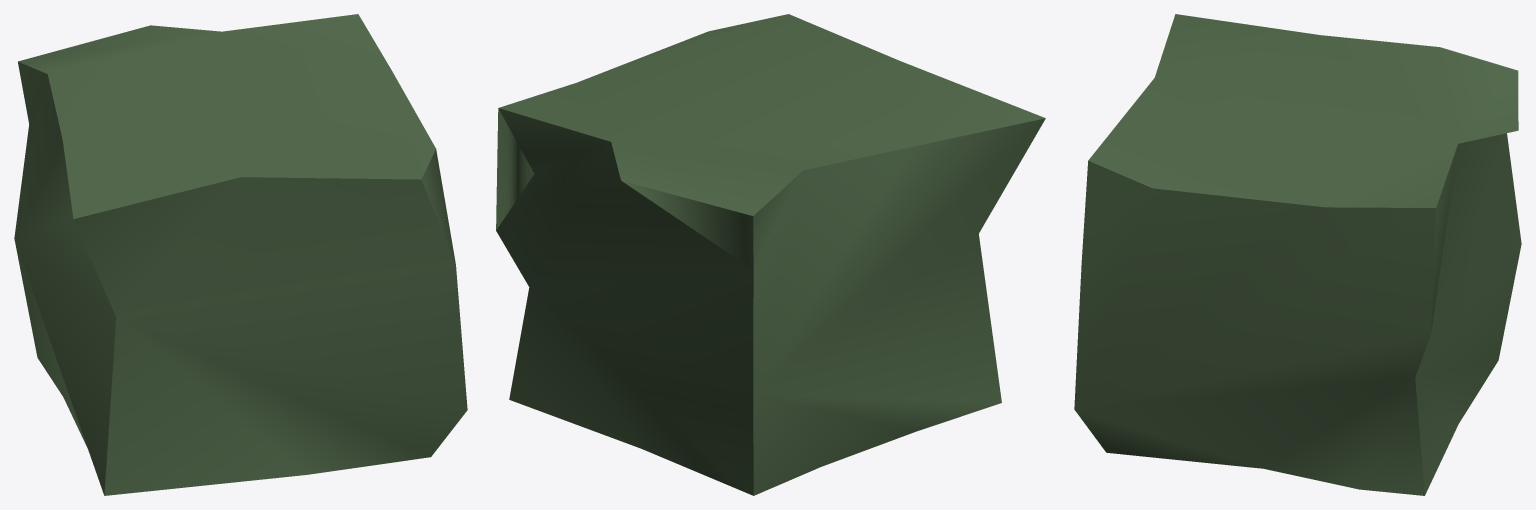
File: BigRock-Shrine.fbx
3 renders of one model, left to right at view 1: azimuth 30°, elevation 25°; view 2: azimuth 150°, elevation 25°; view 3: azimuth 270°, elevation 25°, orthographic. The views are drawn at different scales.
Visible parts, largest first — view 1: Island; view 2: Island; view 3: Island.
Boxes of the visible parts, x1,y1,x2,y2 form: Island: (14, 14, 467, 495); Island: (496, 14, 1045, 495); Island: (1074, 14, 1521, 495).
Size of the model in its own units: 7.81 by 5.47 by 7.3.
